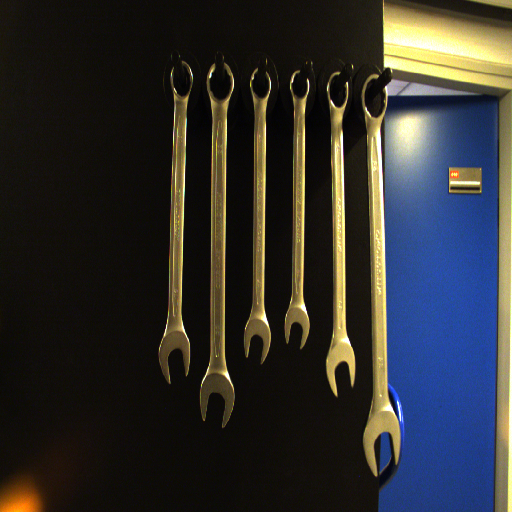bottom: (360, 410, 404, 477), (197, 369, 239, 431), (157, 331, 194, 385), (323, 342, 358, 397), (238, 317, 274, 365), (280, 303, 312, 354)
top: (360, 72, 390, 122), (205, 62, 238, 107), (324, 69, 351, 113), (167, 60, 196, 100), (247, 67, 274, 102), (286, 69, 313, 104)
